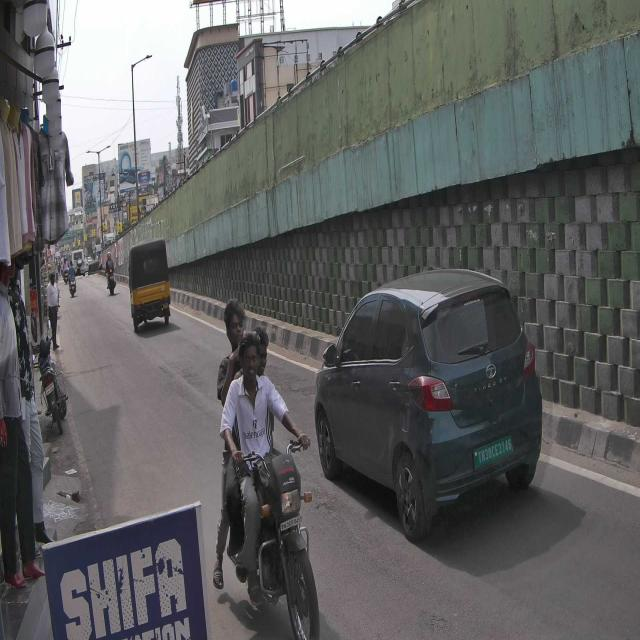triple_rider: (213, 292, 323, 640)
